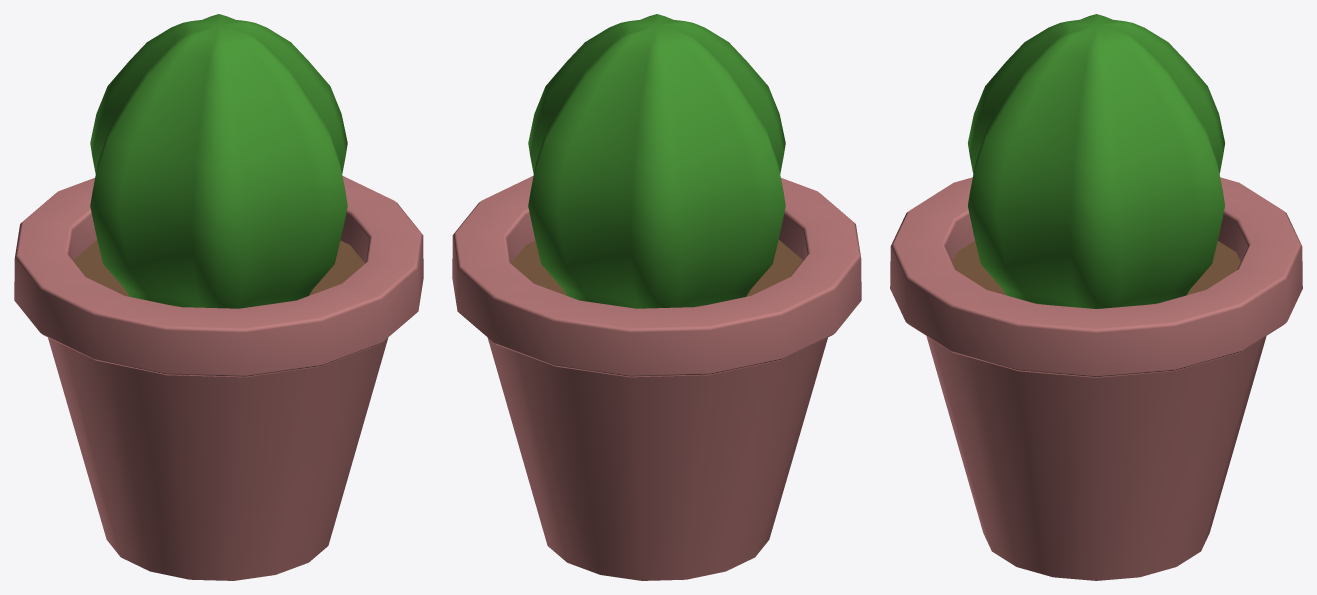
Rendered from Cactus_2.glb.
3 renders of one model, left to right at view 1: azimuth 30°, elevation 25°; view 2: azimuth 150°, elevation 25°; view 3: azimuth 270°, elevation 25°, orthographic.
Visible parts, largest first — view 1: Cactus_2; view 2: Cactus_2; view 3: Cactus_2.
Boxes of the visible parts, <box> form: Cactus_2: <box>14,14,423,580</box>; Cactus_2: <box>452,14,861,580</box>; Cactus_2: <box>890,14,1302,580</box>.
Bounding box in the file's own units: 0.102 × 0.1395 × 0.102.
1 material, 1 textured.
